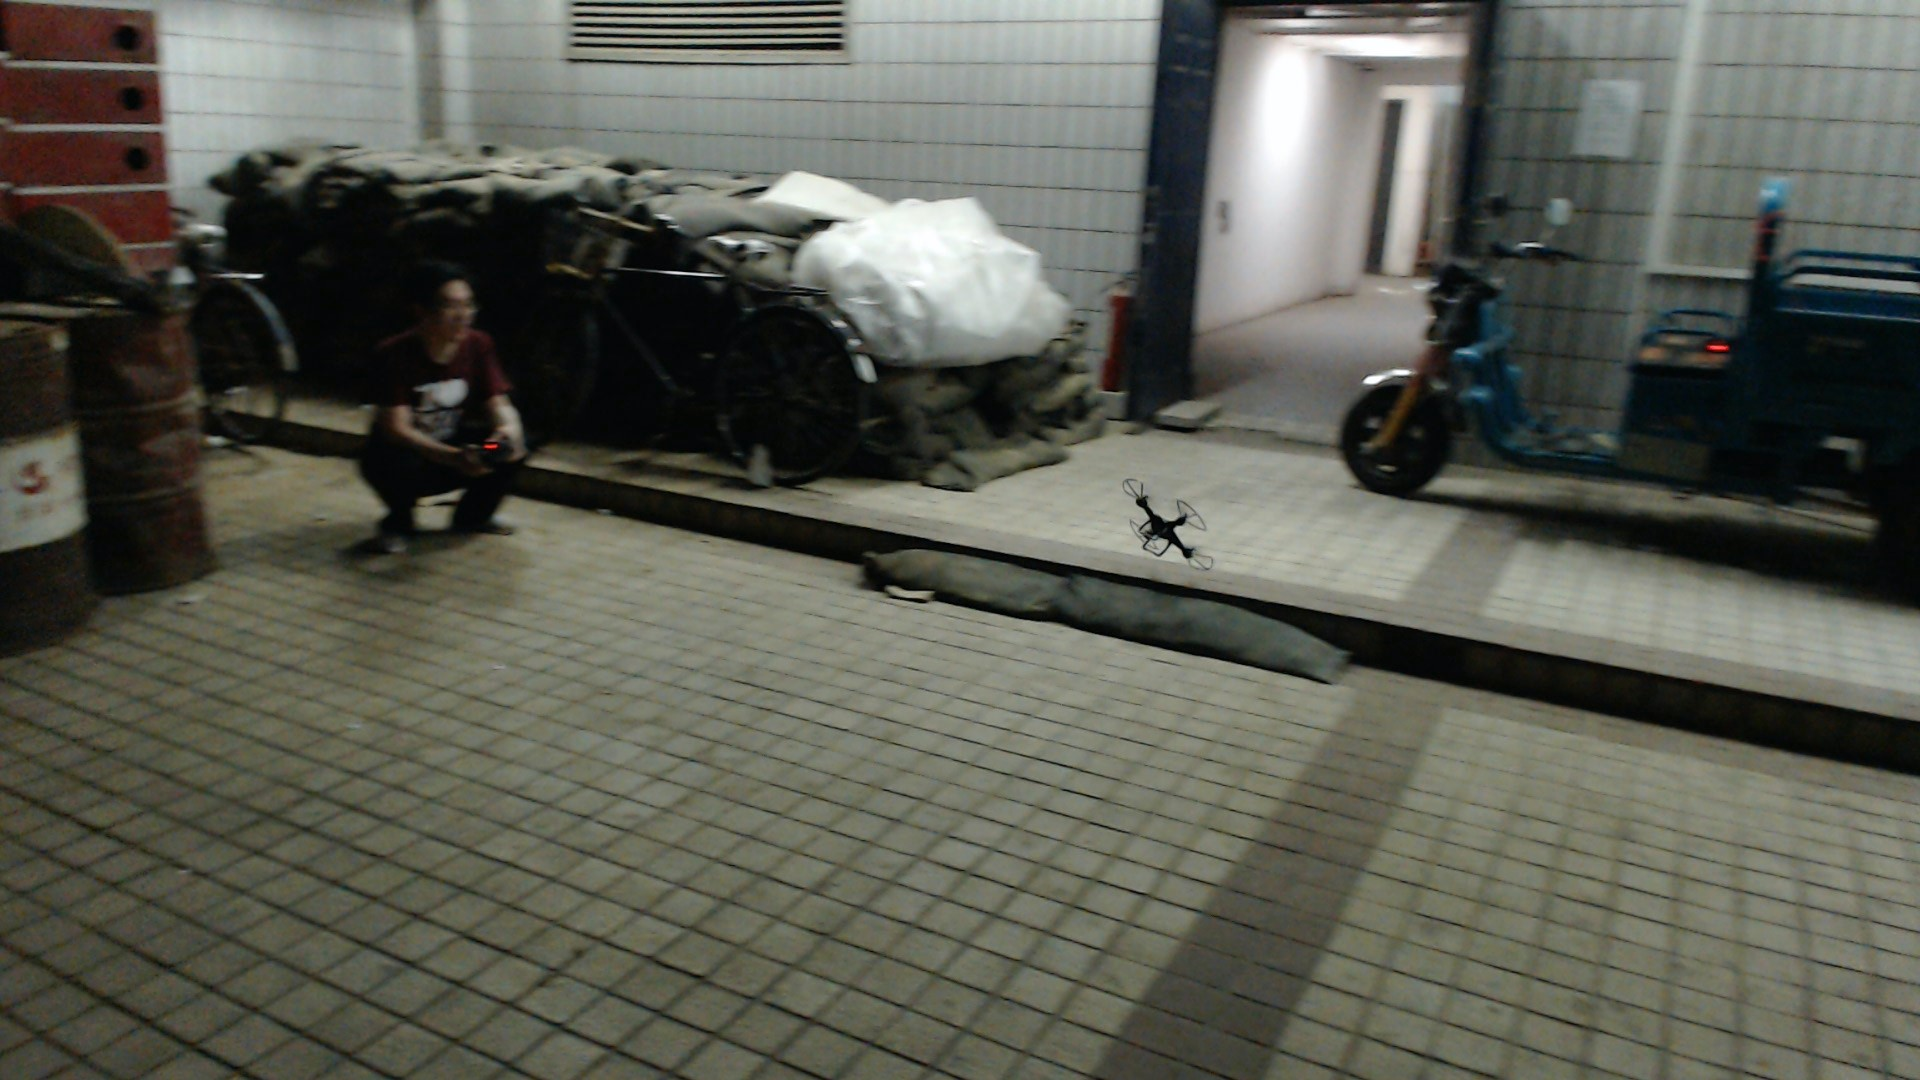human: (358, 255, 544, 560)
test_drone: (1121, 477, 1221, 581)
